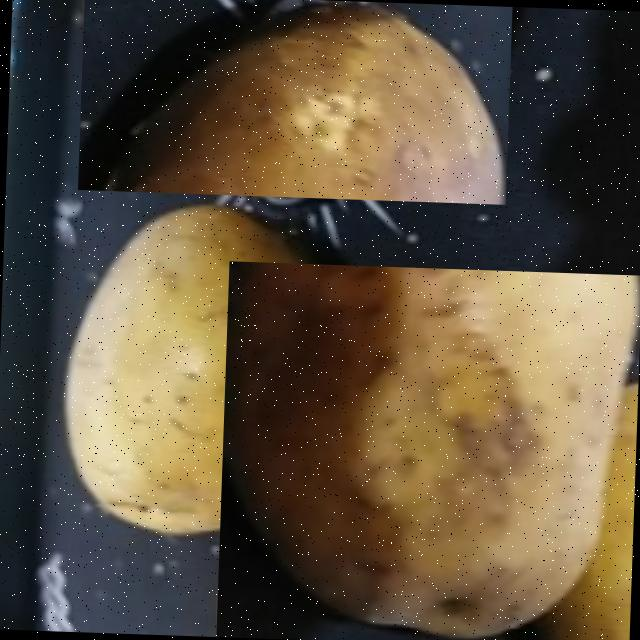Damaged potato: (215, 261, 640, 640), (76, 0, 511, 204)
Potato: (54, 198, 326, 549)
